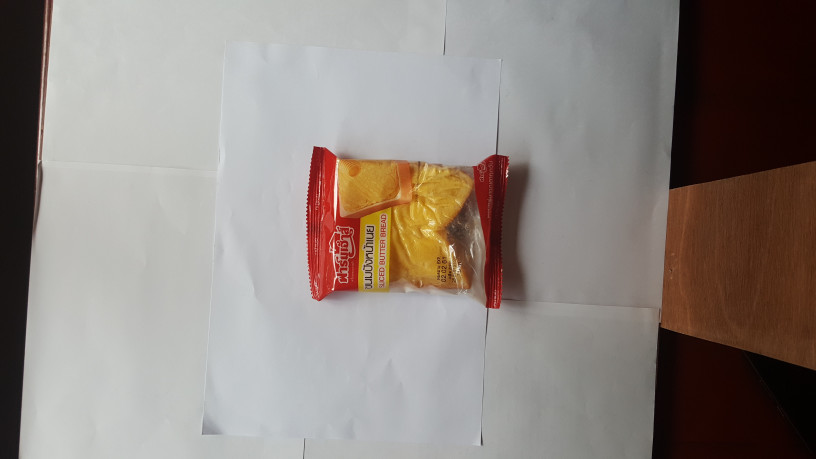farmhouse-bread-butter: (297, 139, 524, 313)
